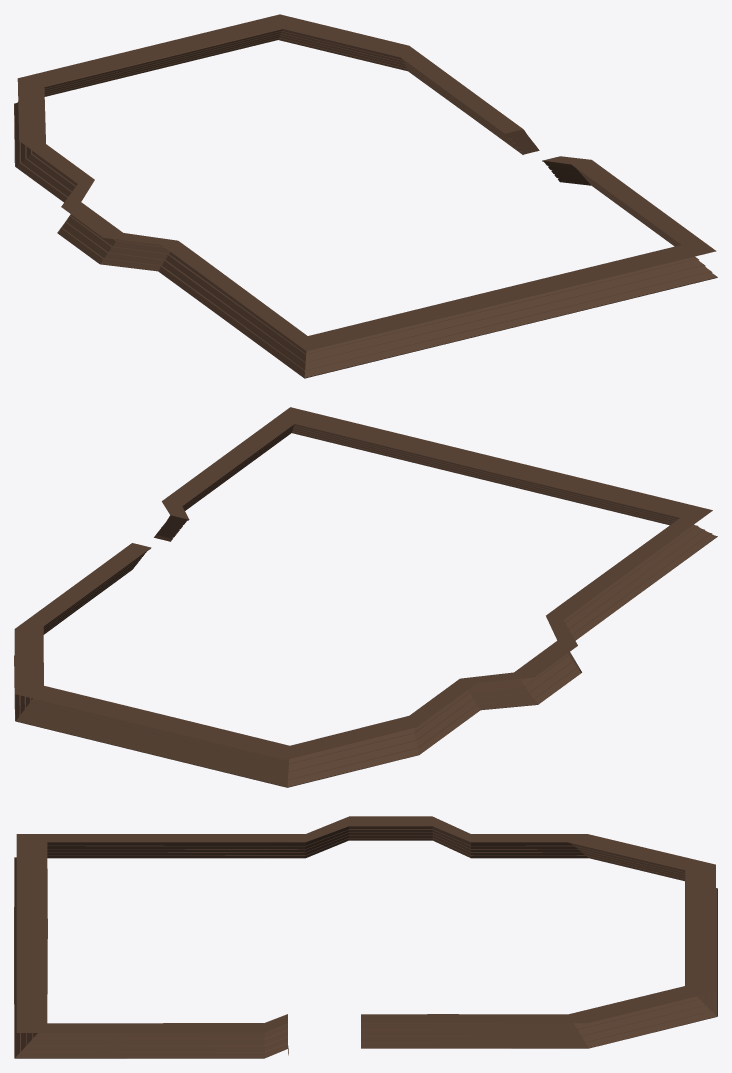
File: CeilingDivider.fbx
3 renders of one model, top to bottom at view 1: azimuth 30°, elevation 25°; view 2: azimuth 150°, elevation 25°; view 3: azimuth 270°, elevation 25°, orthographic. The views are drawn at different scales.
Visible parts, largest first — view 1: pCube23; view 2: pCube23; view 3: pCube23.
Boxes of the visible parts, x1=… form: pCube23: x1=14, y1=14, x2=717, y2=378; pCube23: x1=14, y1=407, x2=717, y2=787; pCube23: x1=14, y1=816, x2=717, y2=1058.
Size of the model in its own units: 150 by 8.28 by 204.
